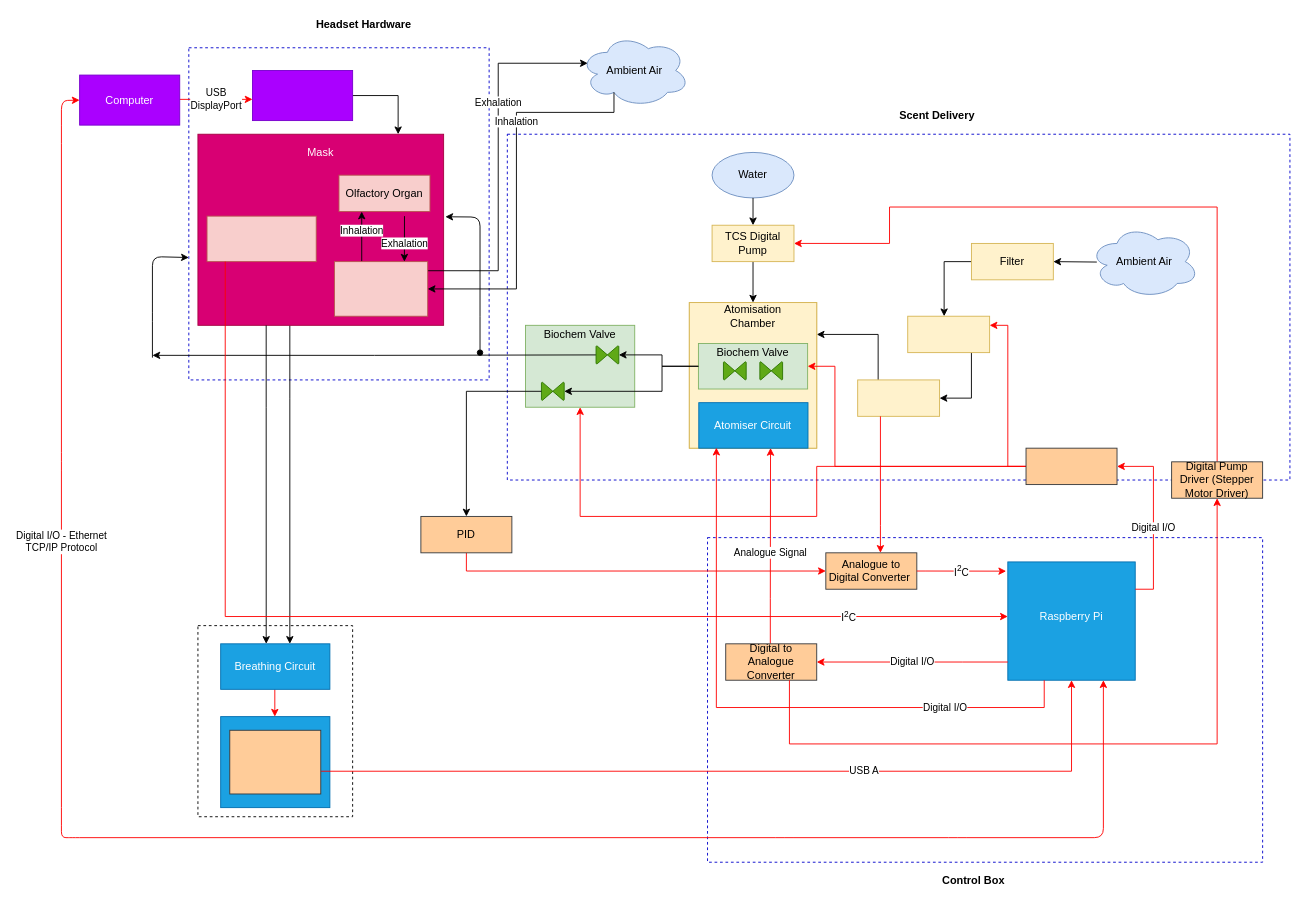
Image size: 1306x914. Some labels were removed from this diagram. Here are the shapes that lost their labels. From the top down, the centre of each, then its label:
pixel 302 95: VR Headset
pixel 261 238: Temperature & Pressure Sensor
pixel 381 288: Vent
pixel 948 334: KNF Pump
pixel 898 397: Flow Meter
pixel 1071 466: Biochem Valve & Pump Driver (L298N)
pixel 275 761: Arduino with RTC, Analogue to Digital Converter and SD card
